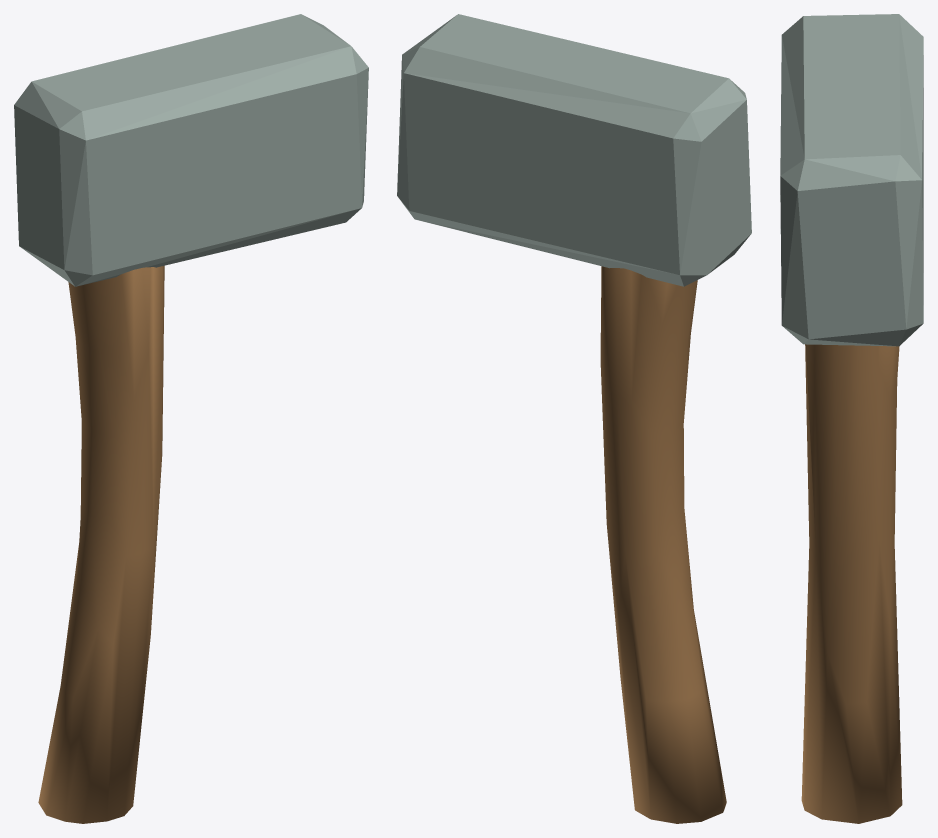
File: reduced-200.glb
3 renders of one model, left to right at view 1: azimuth 30°, elevation 25°; view 2: azimuth 150°, elevation 25°; view 3: azimuth 270°, elevation 25°, orthographic. The views are drawn at different scales.
Parts seen in each view (by area): view 1: Cube.002, Handle.002; view 2: Cube.002, Handle.002; view 3: Cube.002, Handle.002.
Boxes of the visible parts, left/top/right/bottom form: Cube.002: left=14, top=14, right=368, bottom=286; Handle.002: left=38, top=265, right=164, bottom=823; Cube.002: left=397, top=14, right=751, bottom=286; Handle.002: left=600, top=266, right=726, bottom=823; Cube.002: left=780, top=14, right=923, bottom=346; Handle.002: left=801, top=344, right=902, bottom=823.
Bounding box in the file's own units: 0.635 × 1.42 × 0.2398.
